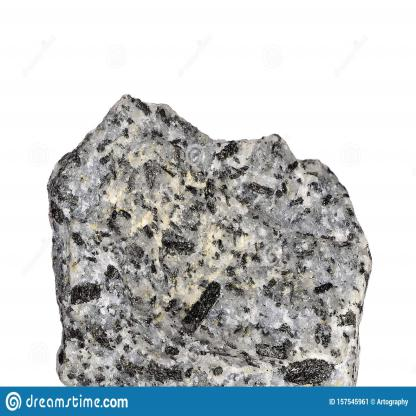Igneous_Diorite: (34, 94, 374, 387)
